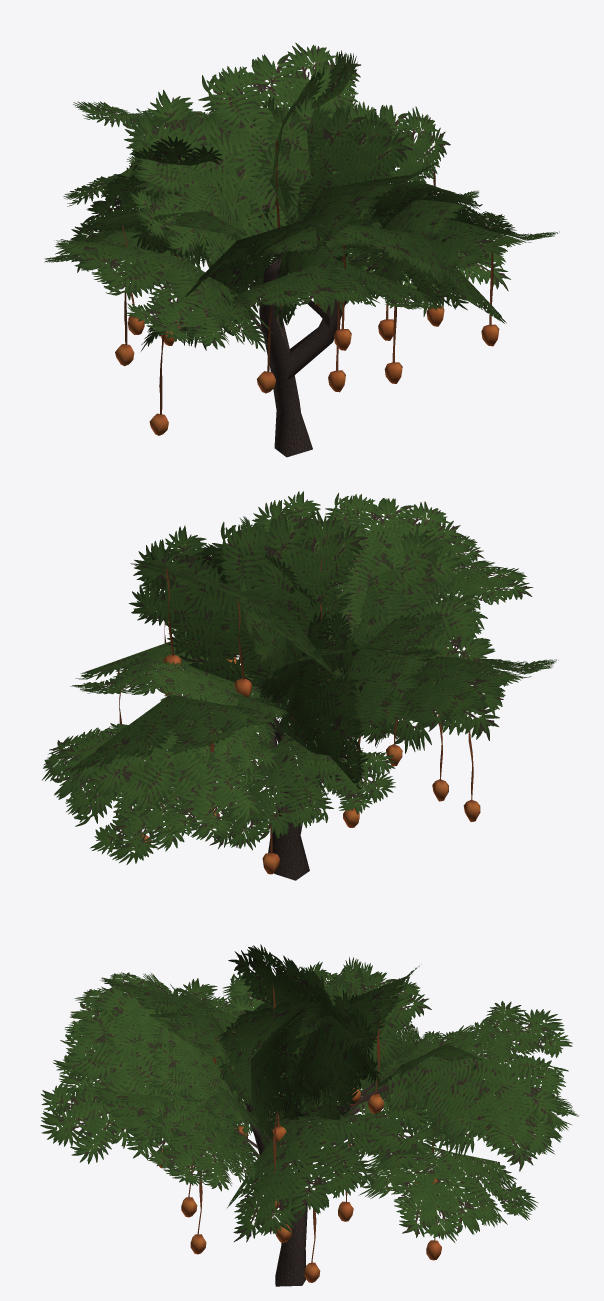
File: Mango01.fbx
3 views of the same model, one above another, from view 1: azimuth 30°, elevation 25°; view 2: azimuth 150°, elevation 25°; view 3: azimuth 270°, elevation 25° (orthographic). The views are drawn at different scales.
Parts seen in each view (by area): view 1: Mango01; view 2: Mango01; view 3: Mango01.
Part boxes in pixels (<box>): Mango01: <box>44,42,559,457</box>; Mango01: <box>42,491,558,880</box>; Mango01: <box>40,944,578,1286</box>.
Size of the model in its own units: 734 by 567 by 856.
